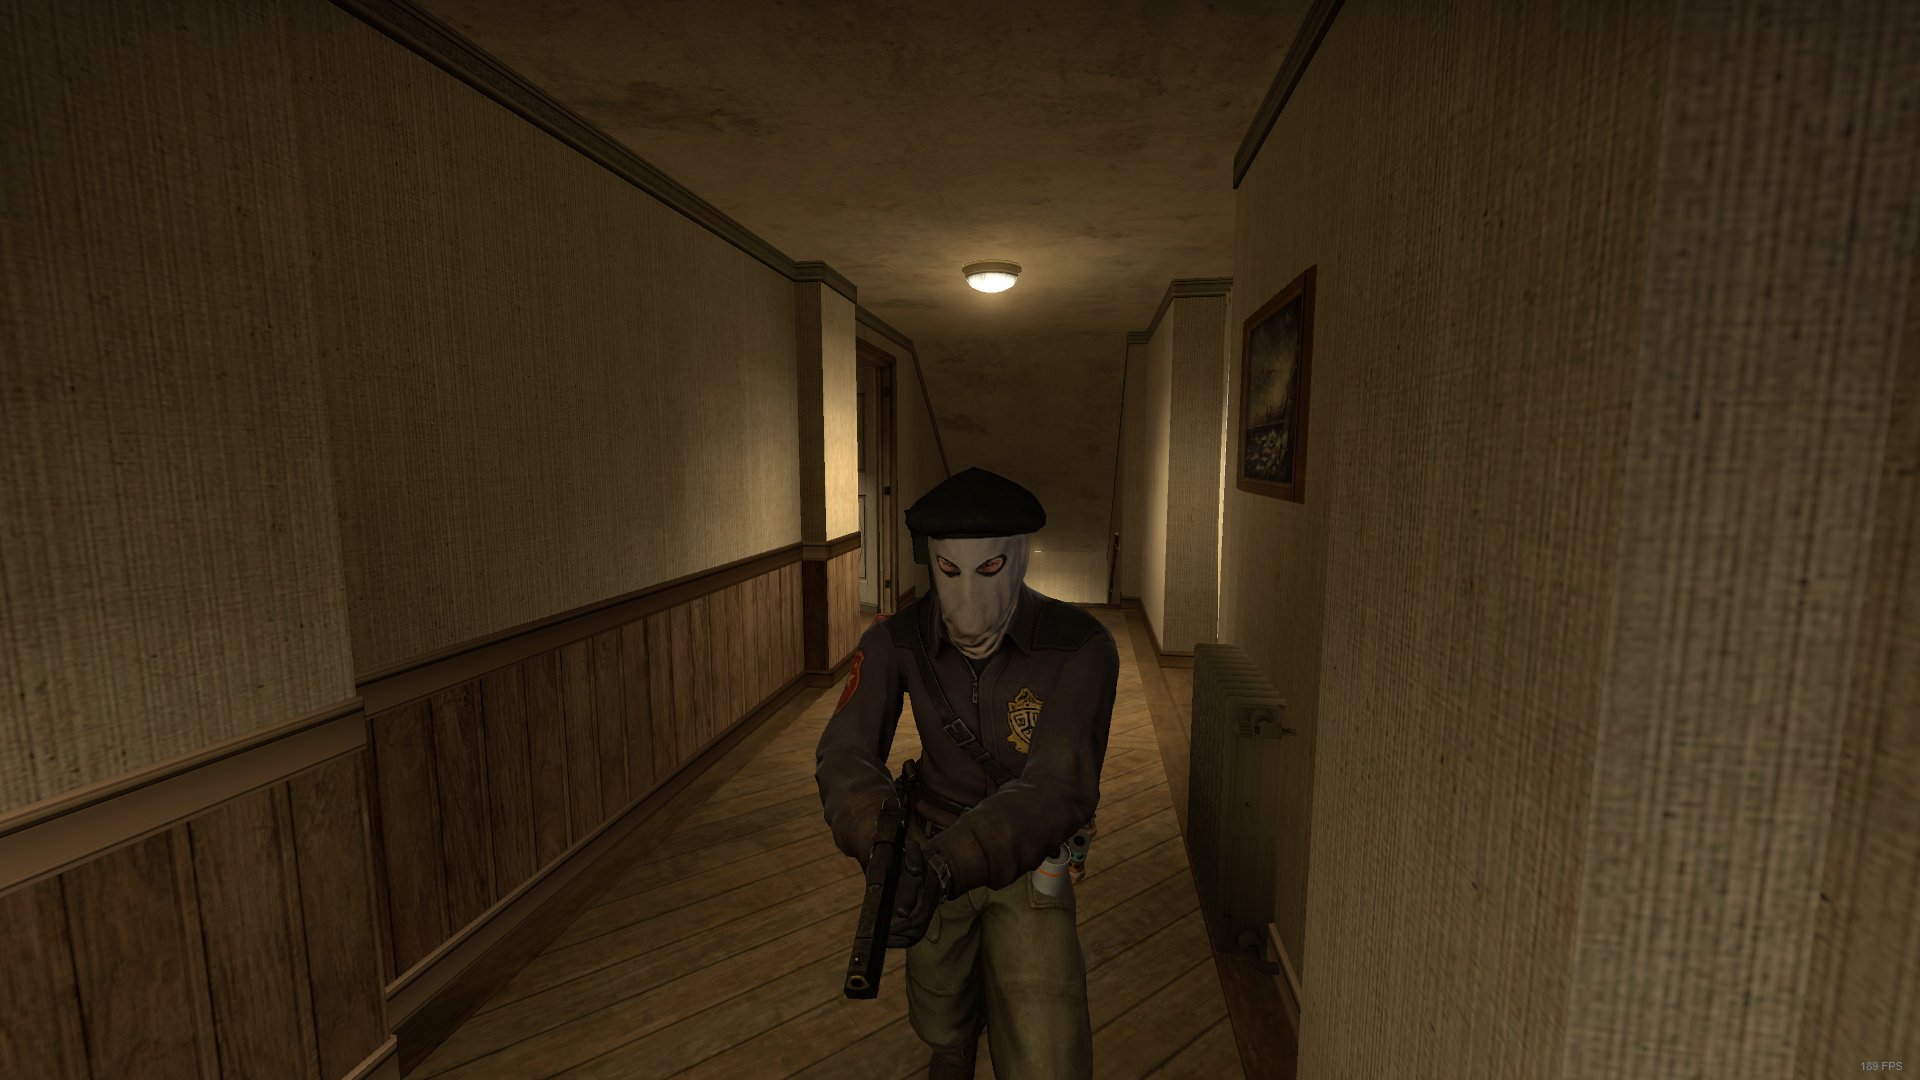t: (819, 465, 1120, 1080)
